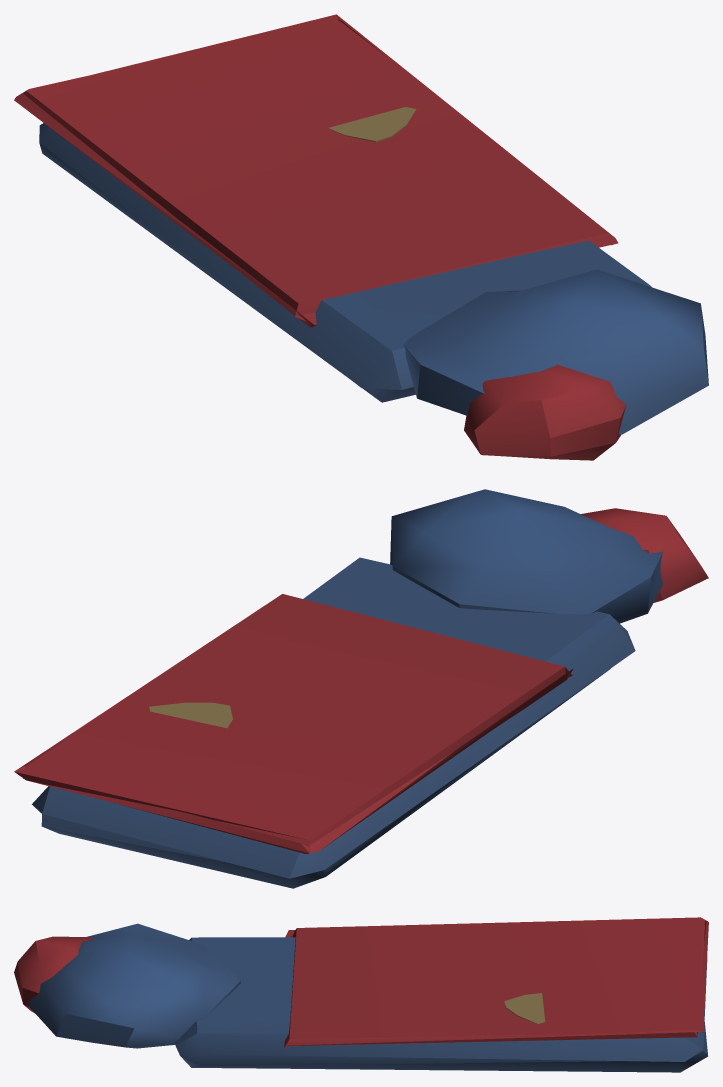
File: 27_sac_couchage.fbx
3 renders of one model, top to bottom at view 1: azimuth 30°, elevation 25°; view 2: azimuth 150°, elevation 25°; view 3: azimuth 270°, elevation 25°, orthographic. The views are drawn at different scales.
Visible parts, largest first — view 1: SacCouchage; view 2: SacCouchage; view 3: SacCouchage.
Boxes of the visible parts, bbox=[...] form: SacCouchage: bbox=[14, 14, 708, 460]; SacCouchage: bbox=[14, 489, 708, 888]; SacCouchage: bbox=[14, 917, 708, 1072].
Size of the model in its own units: 0.56 by 0.168 by 1.4.
1 material, 1 textured.
